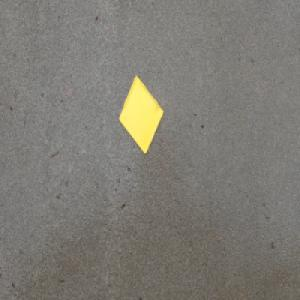PlasticPart: (118, 73, 164, 155)
